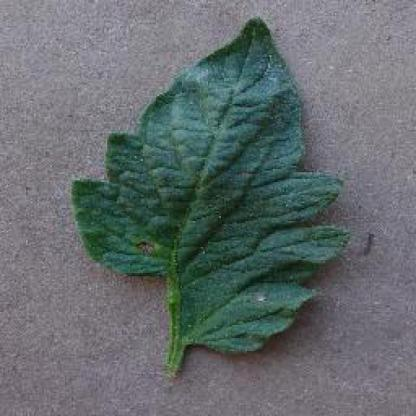Tomato_Blight: (73, 14, 348, 378)
